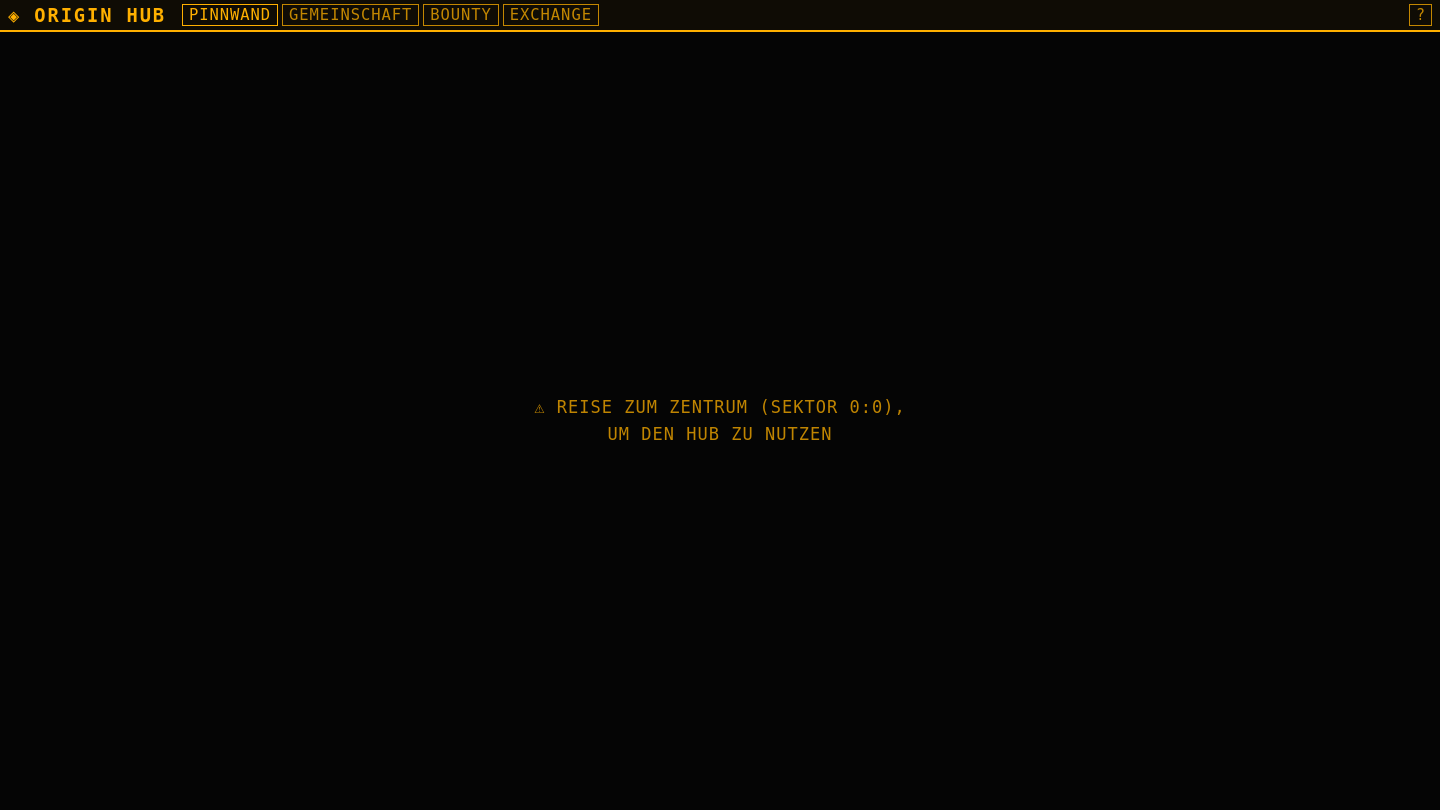
Test case: OriginHub — STARTHILFE-Aufträge › disables ABGEBEN away from origin
The image size is (1440, 810).
Click the text "BOUNTY". click: (461, 15)
box: [423,4,499,26]
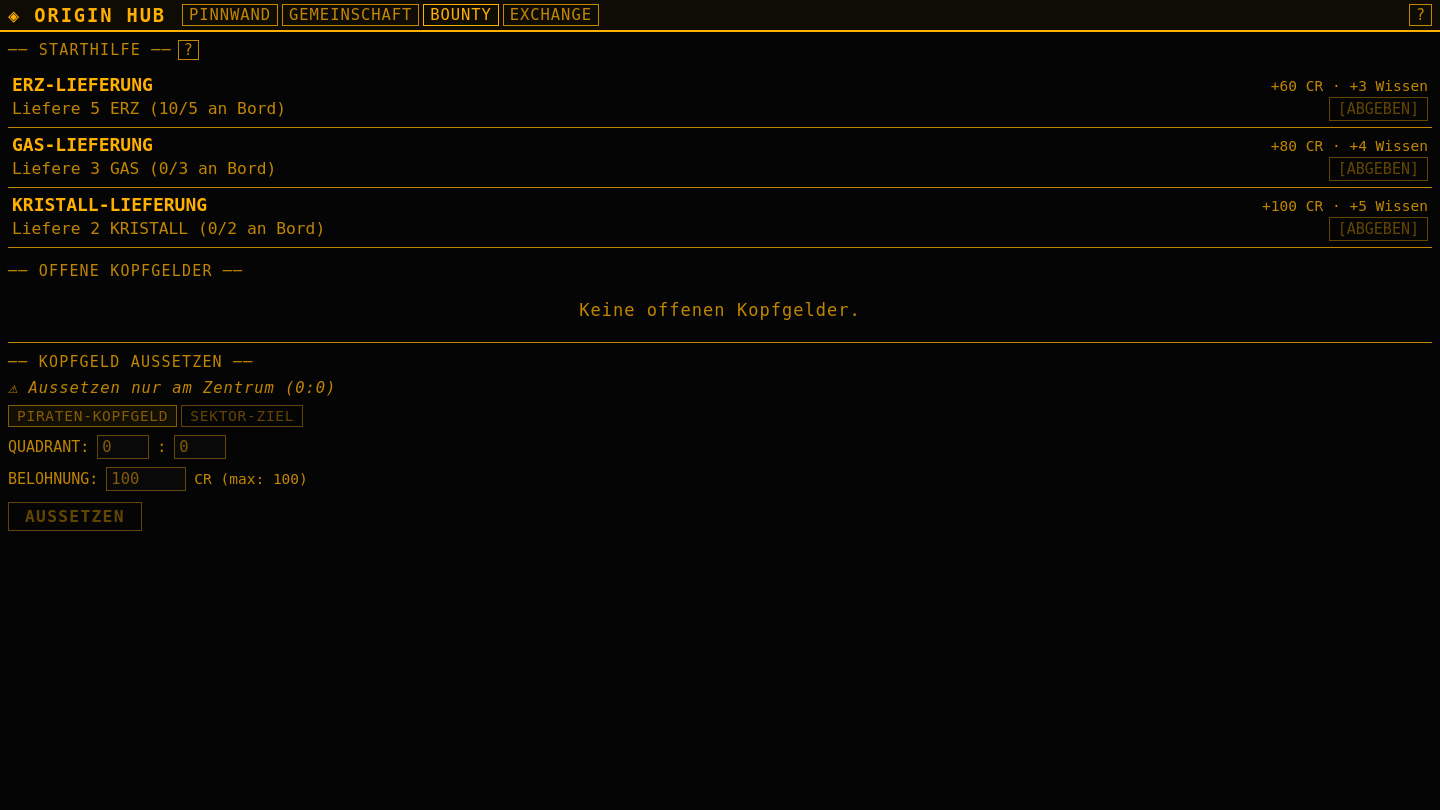
Check: the button with test id "starter-bounty-claim-starter_ore" is disabled, box [1329,97,1428,121]
